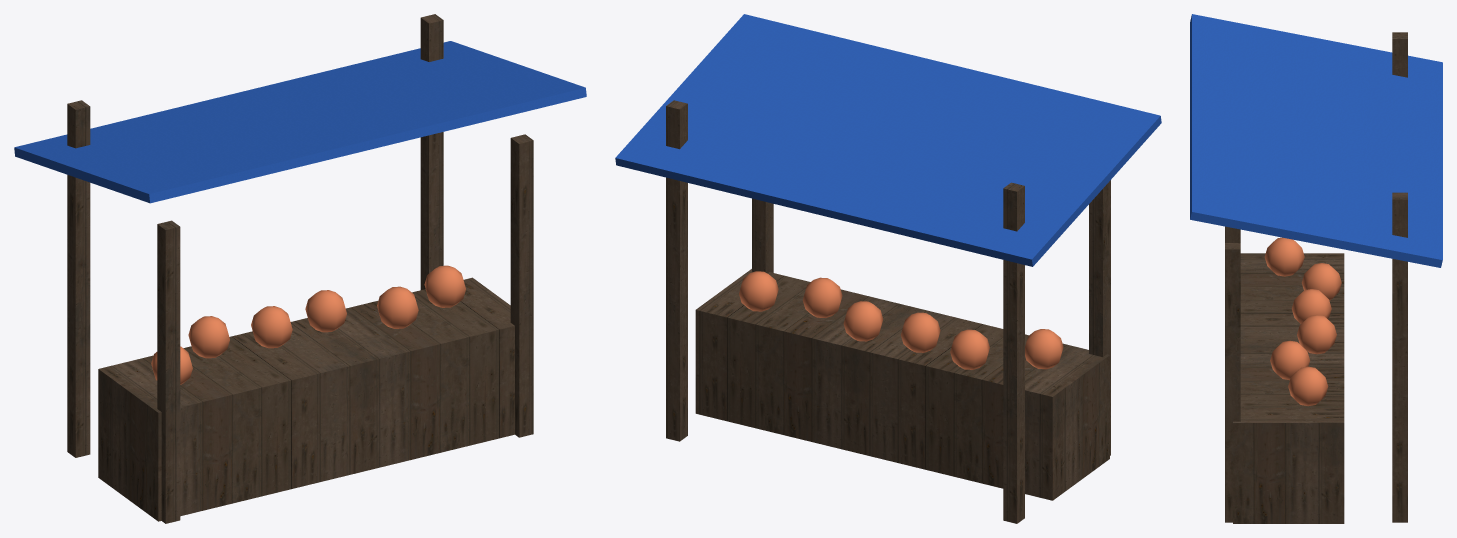
Rendered from market_stall_1.glb.
3 renders of one model, left to right at view 1: azimuth 30°, elevation 25°; view 2: azimuth 150°, elevation 25°; view 3: azimuth 270°, elevation 25°, orthographic. The views are drawn at different scales.
Parts seen in each view (by area): view 1: market_stall_1; view 2: market_stall_1; view 3: market_stall_1.
Boxes of the visible parts, box(x1,y1,x2,y2) form: market_stall_1: box(14, 14, 586, 523); market_stall_1: box(615, 14, 1161, 523); market_stall_1: box(1190, 14, 1442, 523).
Bounding box in the file's own units: 4.2 × 3.23 × 2.27.
Materials: 3 (2 with a texture image).
